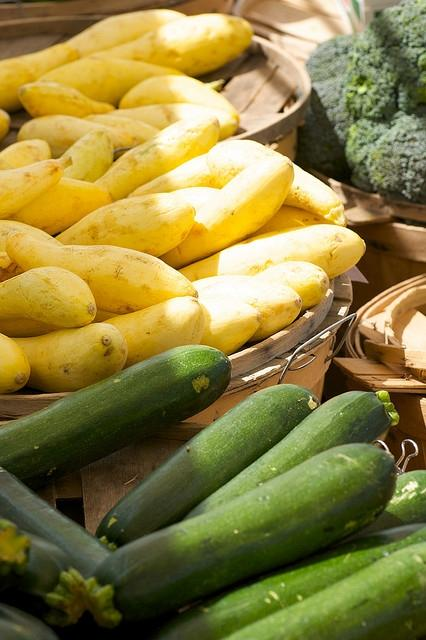broccoli: (344, 0, 426, 123), (355, 108, 426, 206), (294, 106, 355, 181), (306, 34, 364, 82)
vegetable marrow: (80, 444, 396, 626), (95, 384, 321, 550), (145, 521, 426, 640), (0, 344, 232, 488), (184, 390, 399, 520), (219, 539, 426, 640), (0, 467, 116, 580), (0, 527, 88, 624), (328, 470, 426, 548), (0, 602, 59, 640), (0, 516, 33, 577)
